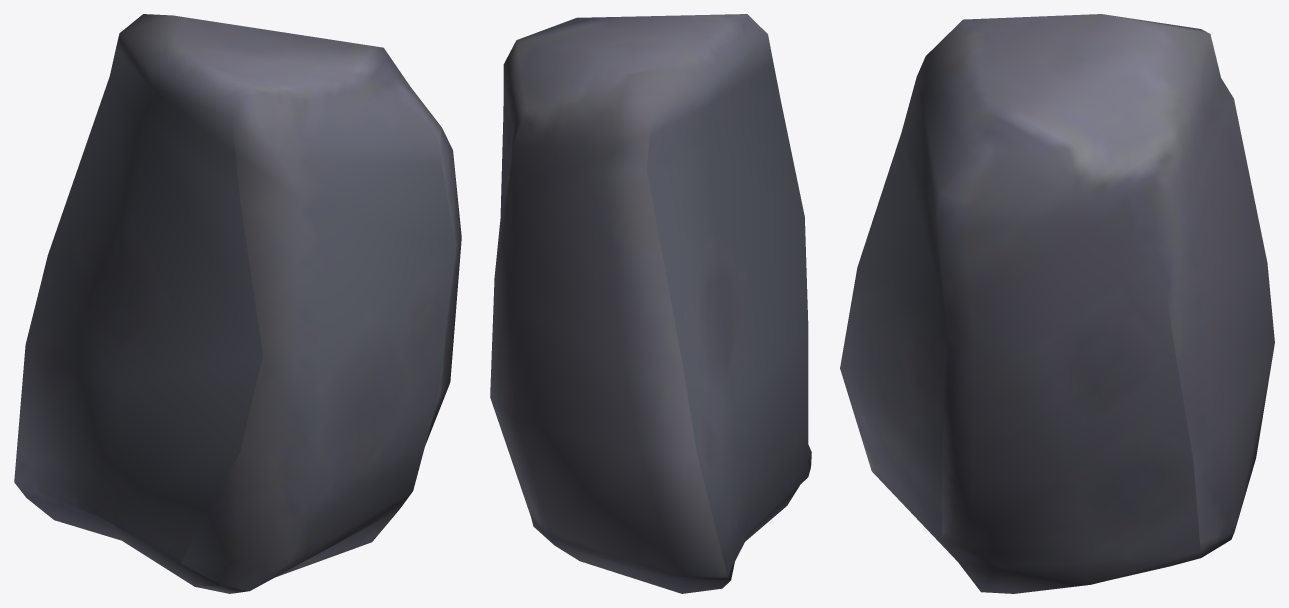
File: DeepForestRock07Textured.fbx
The picture shows the model from 3 angles, left to right: view 1: azimuth 30°, elevation 25°; view 2: azimuth 150°, elevation 25°; view 3: azimuth 270°, elevation 25°; orthographic projection. The views are drawn at different scales.
Parts seen in each view (by area): view 1: ForestRock07; view 2: ForestRock07; view 3: ForestRock07.
Part boxes in pixels (box(x1,y1,x2,y2)): ForestRock07: box(14, 14, 461, 593); ForestRock07: box(490, 14, 811, 593); ForestRock07: box(840, 14, 1274, 593).
Size of the model in its own units: 1.28 by 1.84 by 1.42.
1 material, 1 textured.
